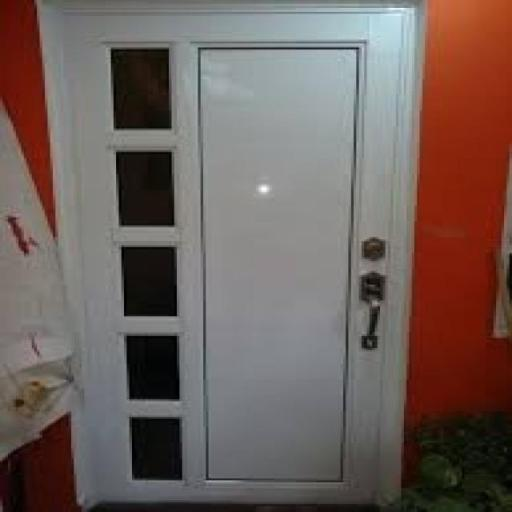door: (61, 8, 414, 508)
